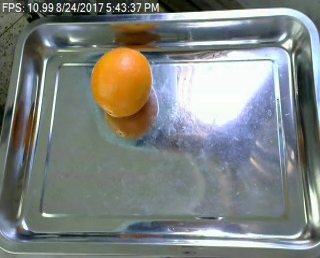Orange: (90, 46, 153, 116)
